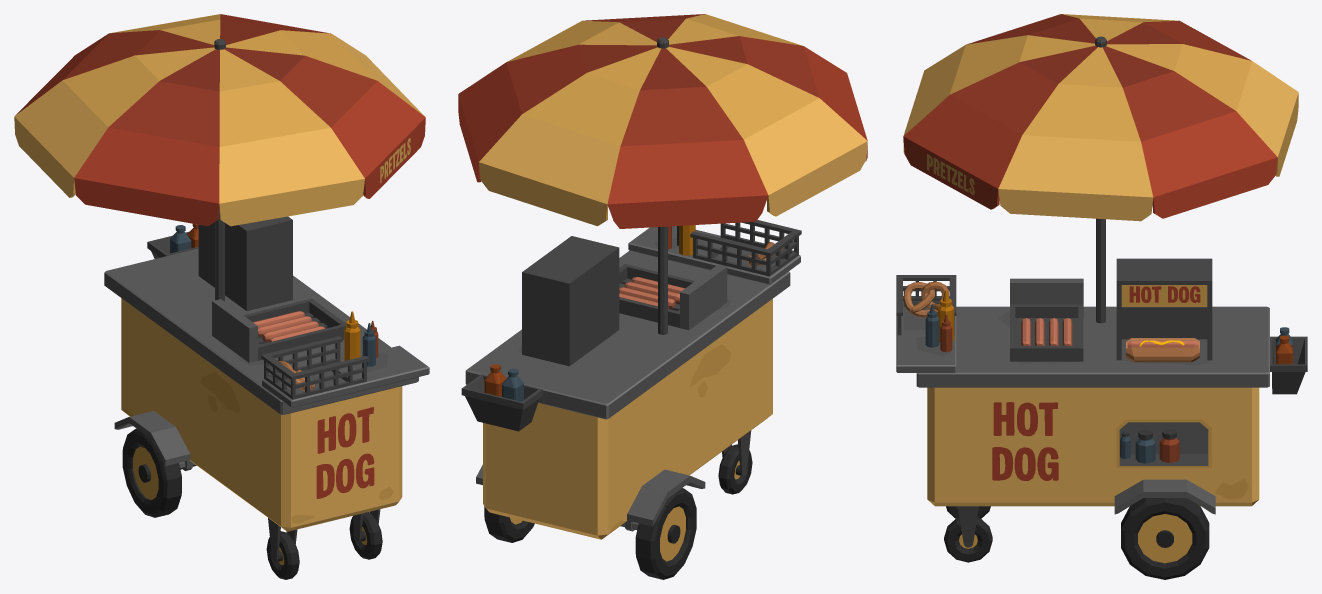
The model's file is SM_Props_Market_03.fbx.
The picture shows the model from 3 angles, left to right: view 1: azimuth 30°, elevation 25°; view 2: azimuth 150°, elevation 25°; view 3: azimuth 270°, elevation 25°; orthographic projection. The views are drawn at different scales.
Parts seen in each view (by area): view 1: SM_Props_Market_03; view 2: SM_Props_Market_03; view 3: SM_Props_Market_03.
Boxes of the visible parts, x1,y1,x2,y2 form: SM_Props_Market_03: (14,14,429,579); SM_Props_Market_03: (458,14,867,579); SM_Props_Market_03: (896,14,1307,579).
Size of the model in its own units: 1.53 by 2.07 by 1.6.
